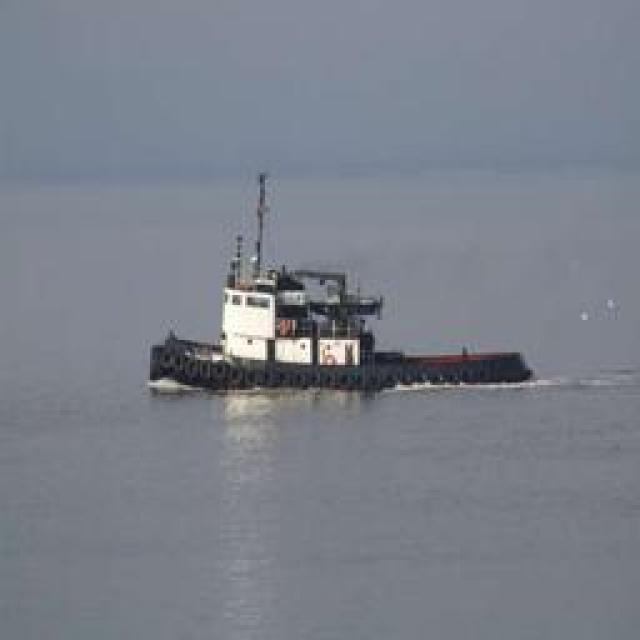ship2: (149, 175, 535, 397)
